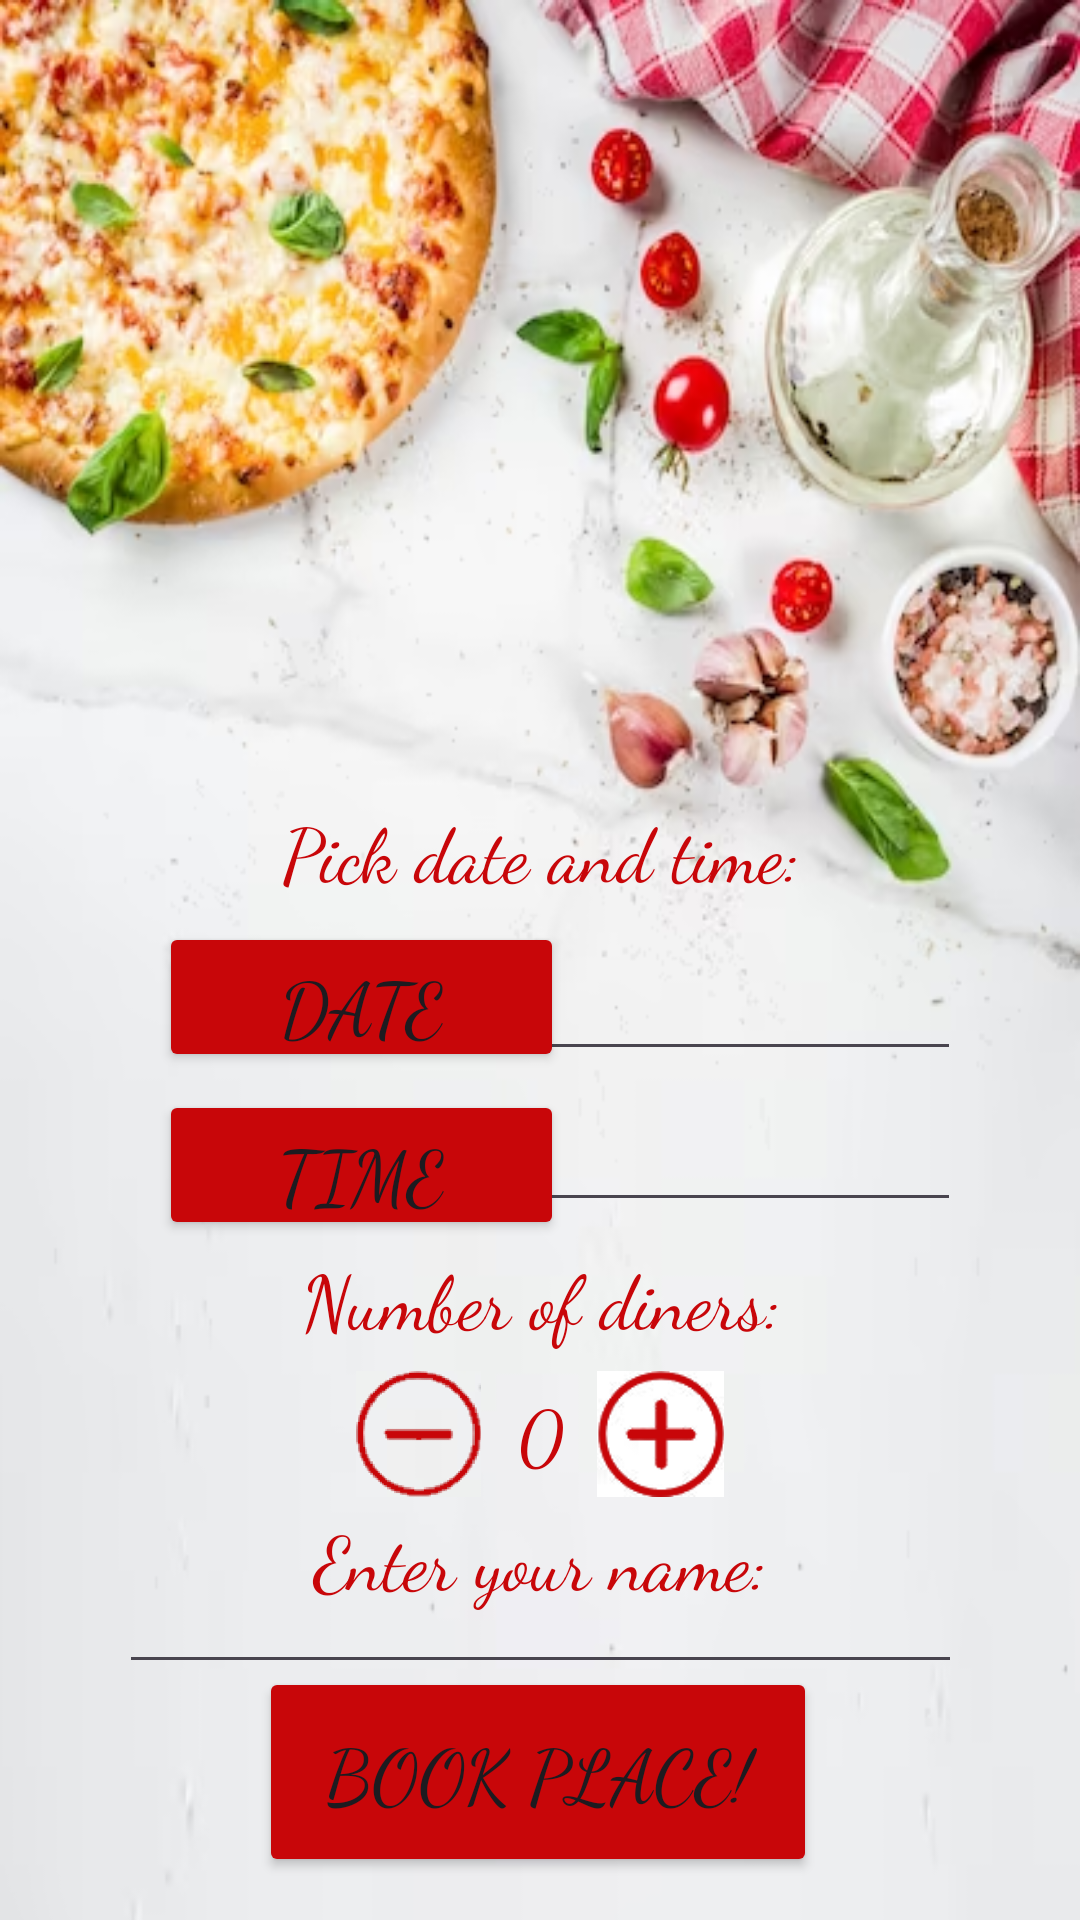

Screen size 1080*1920. Icon name, then its center in pixels as [x,y]:
minus: [418,1434]
plus: [660,1434]
